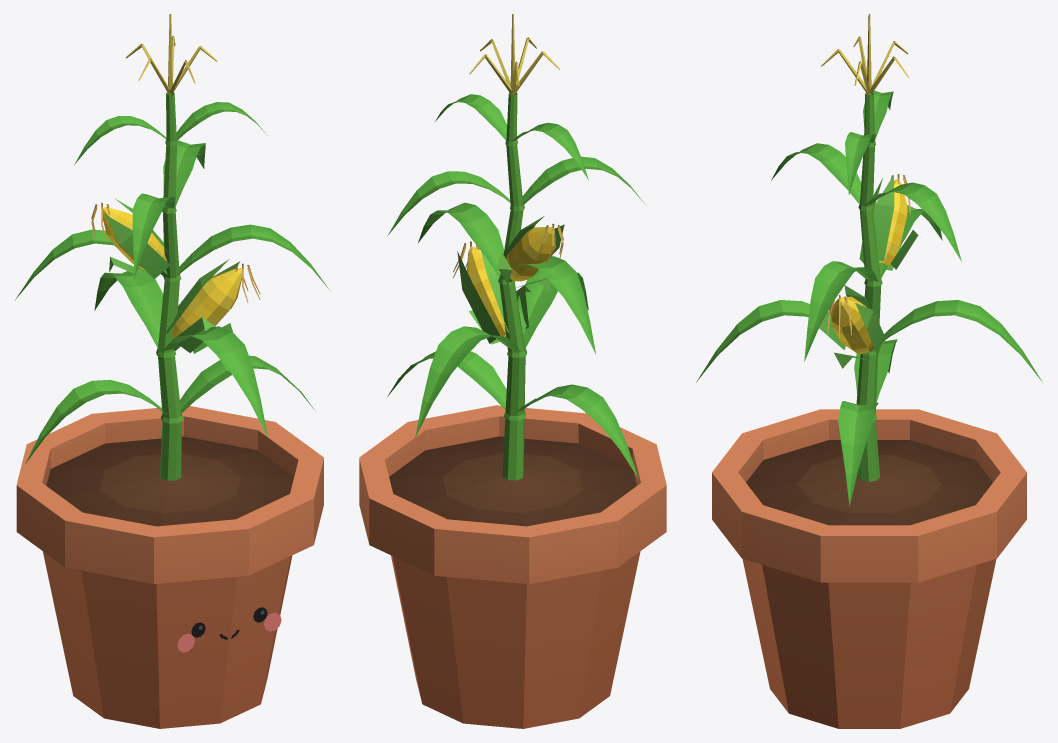
The model's file is cute_corn_stage4.glb.
3 renders of one model, left to right at view 1: azimuth 30°, elevation 25°; view 2: azimuth 150°, elevation 25°; view 3: azimuth 270°, elevation 25°, orthographic.
Parts seen in each view (by area): view 1: CornPlant; view 2: CornPlant; view 3: CornPlant.
Part boxes in pixels (bbox=[...]): CornPlant: bbox=[15, 14, 329, 728]; CornPlant: bbox=[359, 14, 666, 728]; CornPlant: bbox=[696, 14, 1042, 728].
Size of the model in its own units: 0.3968 by 0.935 by 0.4378.
